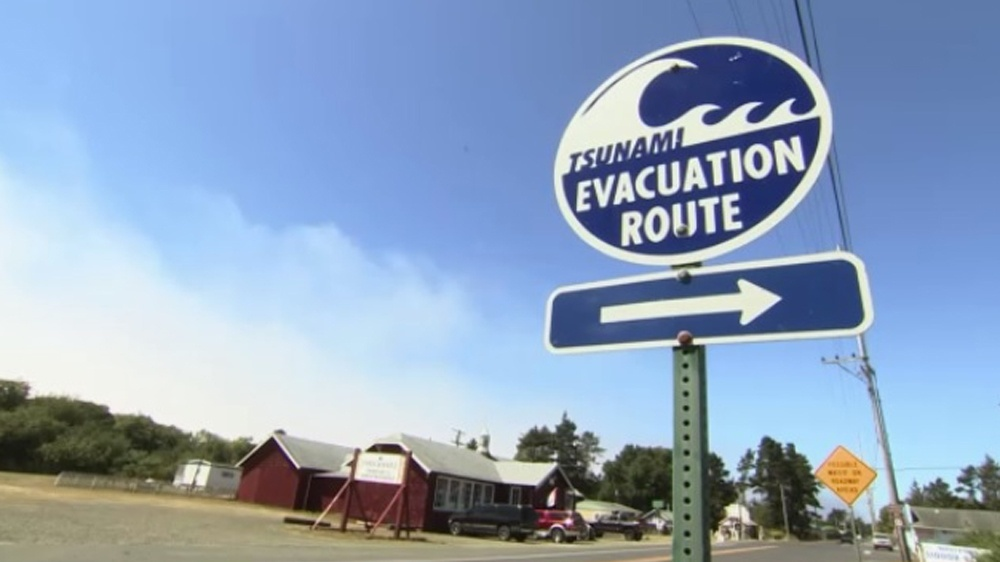text: (572, 134, 587, 215), (588, 134, 603, 215), (604, 134, 619, 215), (620, 134, 635, 215), (636, 134, 651, 215), (652, 134, 667, 215), (668, 134, 683, 215), (684, 134, 699, 215), (700, 134, 715, 215), (716, 134, 731, 215), (732, 134, 747, 215), (748, 134, 763, 215), (764, 134, 779, 215), (780, 134, 795, 215), (796, 134, 811, 215), (618, 191, 633, 247), (634, 191, 649, 247), (650, 191, 665, 247), (666, 191, 681, 247), (682, 191, 697, 247), (698, 191, 713, 247), (714, 191, 729, 247), (730, 191, 745, 247), (563, 125, 578, 176), (579, 125, 594, 176), (595, 125, 610, 176), (611, 125, 626, 176), (627, 125, 642, 176), (643, 125, 658, 176), (659, 125, 674, 176), (675, 125, 690, 176), (819, 460, 834, 470), (835, 460, 850, 470), (851, 460, 866, 470), (822, 469, 837, 478), (838, 469, 853, 478), (854, 469, 869, 478), (830, 478, 845, 486), (846, 478, 861, 486), (832, 486, 847, 494), (848, 486, 863, 494)
